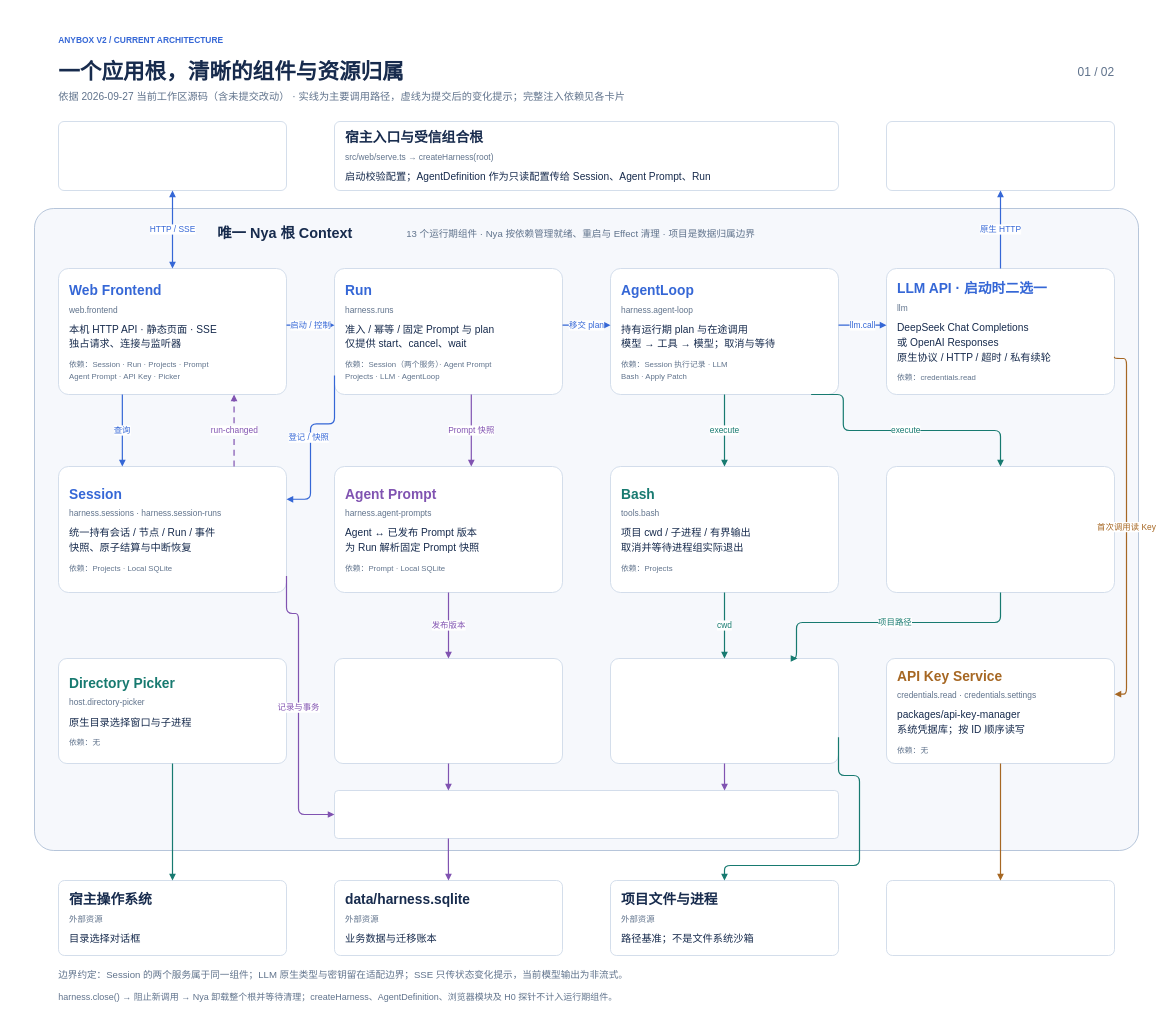
The diagram is 1172 pixels wide and 1028 high, and some of its shapes have lost their labels. The shapes that lost their labels are listed below. From the top down, each one's box as (x1, y1, x2, y2) in pixels, then its label:
(58, 121, 287, 191): Web 客户端 浏览器 · src/web/client.ts 会话树 / 多 Run / 最多四个跨项目分屏
(886, 121, 1115, 191): 外部模型 API HTTP · 启动时选择对应服务 DeepSeek / OpenAI Responses
(886, 466, 1115, 593): Apply Patch tools.apply-patch 跨项目串行队列 / 文件预检 逐文件提交 / 临时资源清理 依赖：Projects
(334, 658, 563, 764): Prompt harness.prompts 草稿与不可变发布版本 依赖：Local SQLite
(610, 658, 839, 764): Projects harness.projects 项目目录身份、元数据与可用性 依赖：Local SQLite
(334, 790, 839, 839): Local SQLite · local-storage 唯一连接 / 排他锁 / 串行事务；各领域自行 migrate(domain, migrations)
(886, 880, 1115, 956): 系统凭据库 @napi-rs/keyring Keychain / Credential Manager Linux Secret Service
